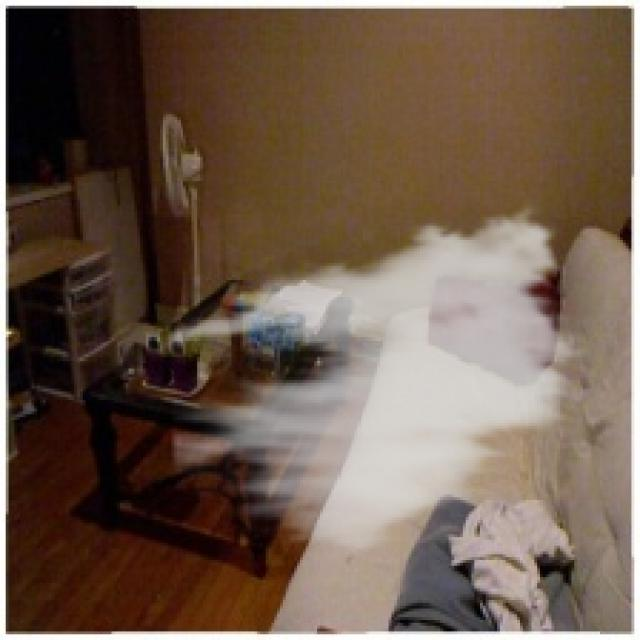smoke: (172, 197, 592, 563)
